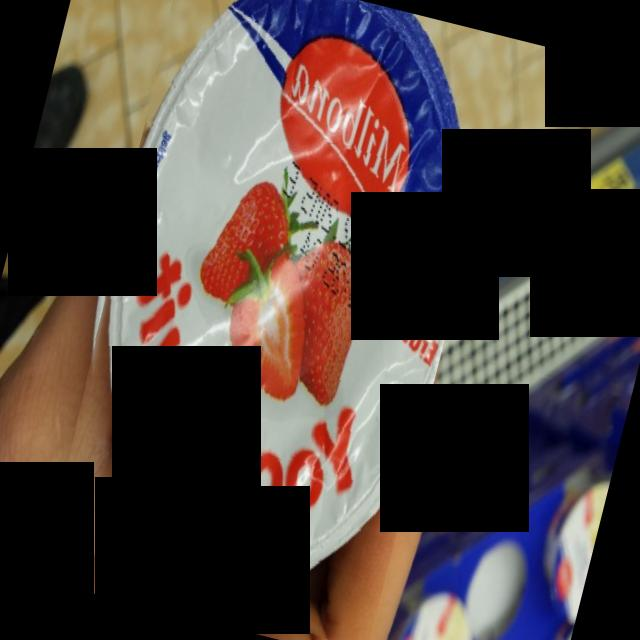yogurt: (28, 0, 518, 640)
